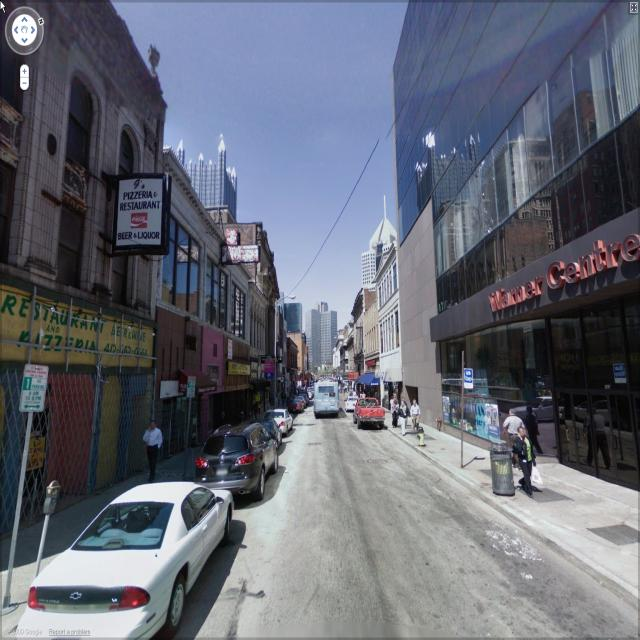b_1: (395, 1, 640, 498), (11, 1, 159, 450), (147, 183, 251, 444), (240, 222, 290, 410), (166, 135, 246, 212), (376, 246, 404, 398), (306, 298, 345, 392), (355, 294, 391, 389), (284, 296, 310, 340)
